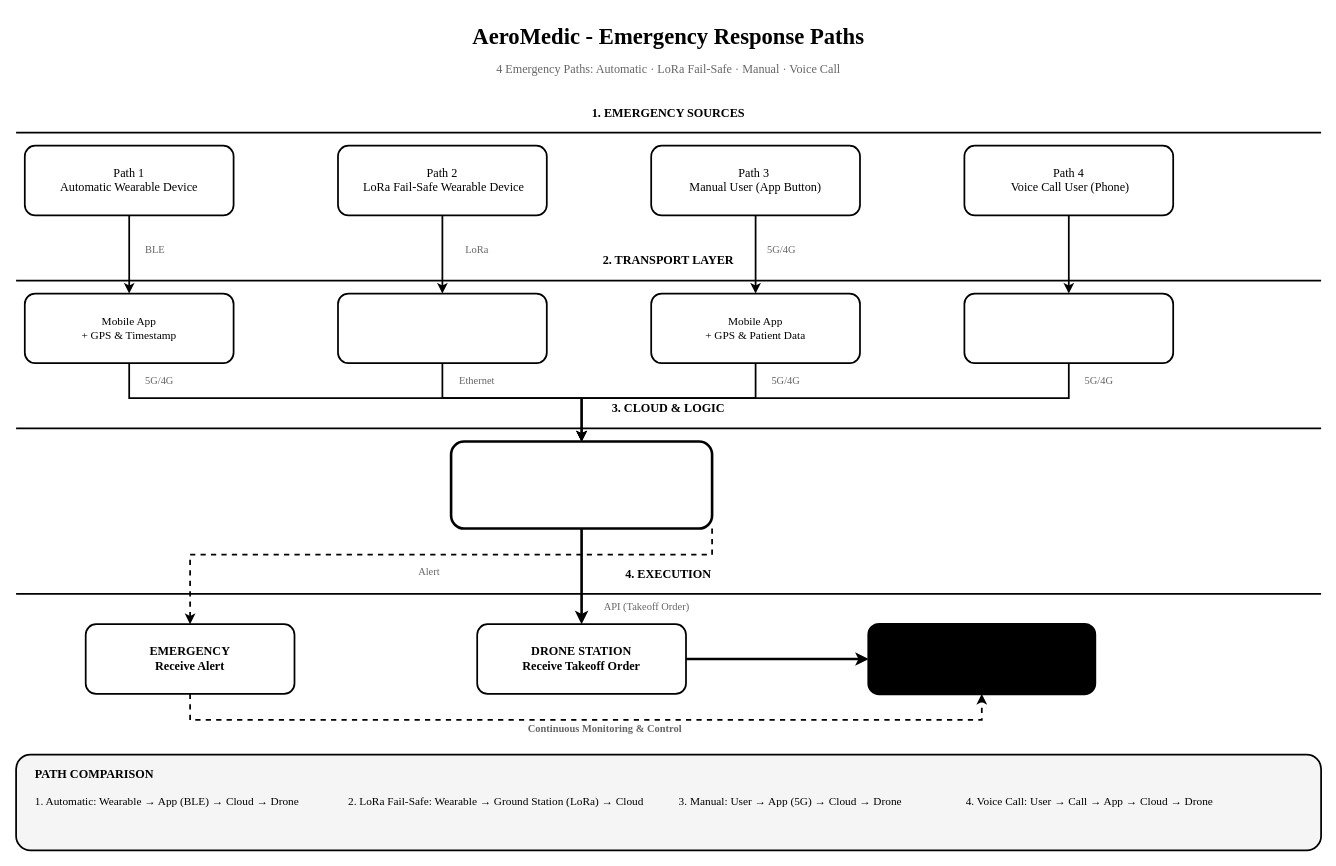
The diagram is 1336 pixels wide and 866 high, and some of its shapes have lost their labels. Each missing label, with the centre of its shape:
CLOUD + Fail-Safe Check + Find Nearest Drone + Send Takeoff Order: point 581,484
Emergency App + Patient Data Entry: point 1068,328
Ground Station + RSSI (Location): point 442,328
🚁 DRONE LAUNCH Deliver Medical Payload: point 981,658
